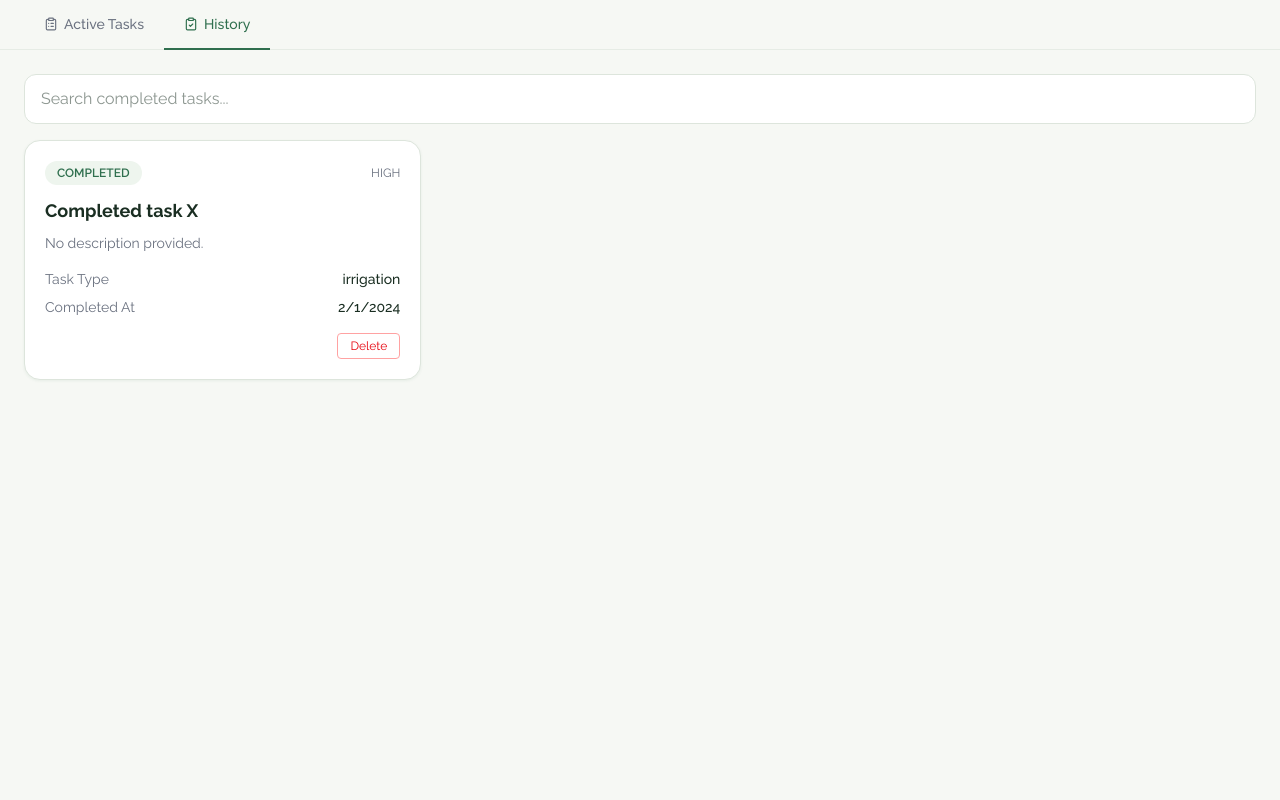
it: manager task delete (US42) › soft-deletes a completed task from the History tab on confirm
Expected: the heading "Completed task X" is shown, [45,200,198,221]
Click the button "Delete": (369, 346) [338,333,400,359]
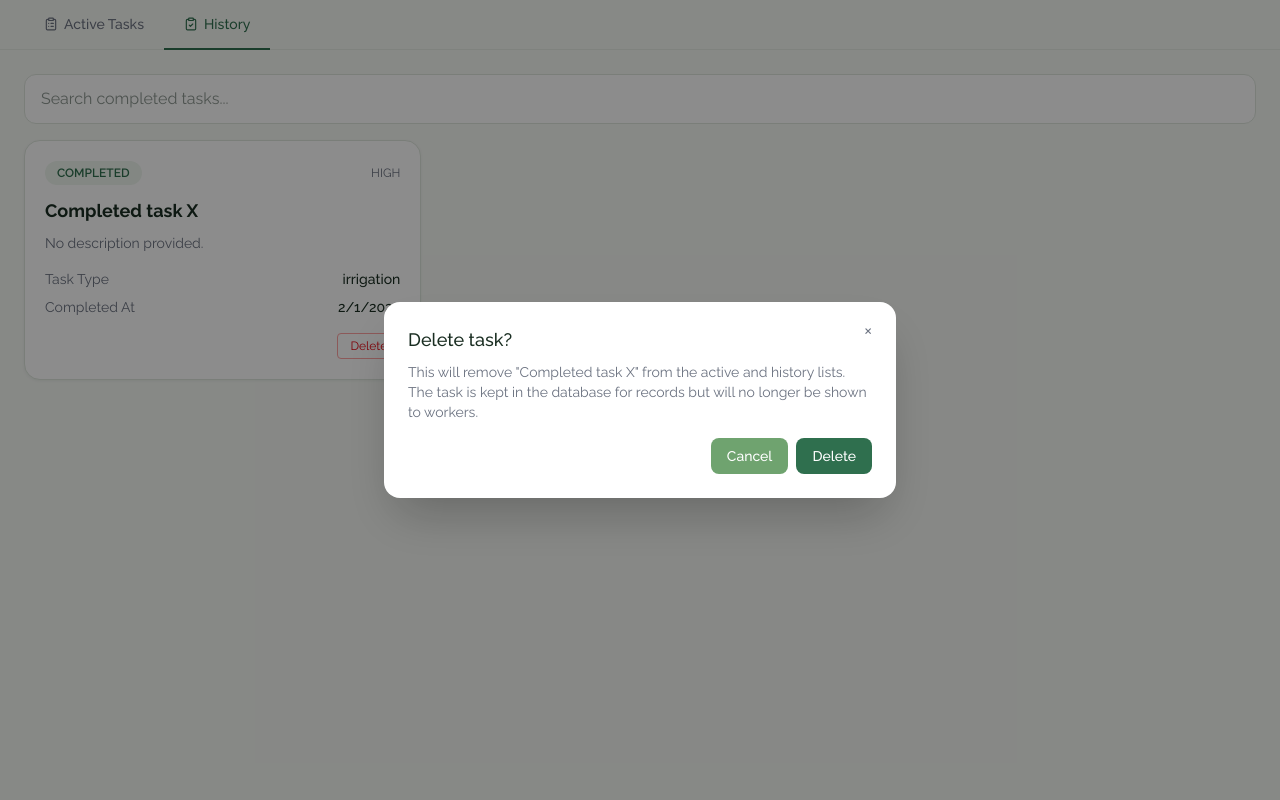
Expected: the heading "Delete task?" is shown, [408,329,512,350]
Click the button "Delete": (834, 456) [796,438,872,474]
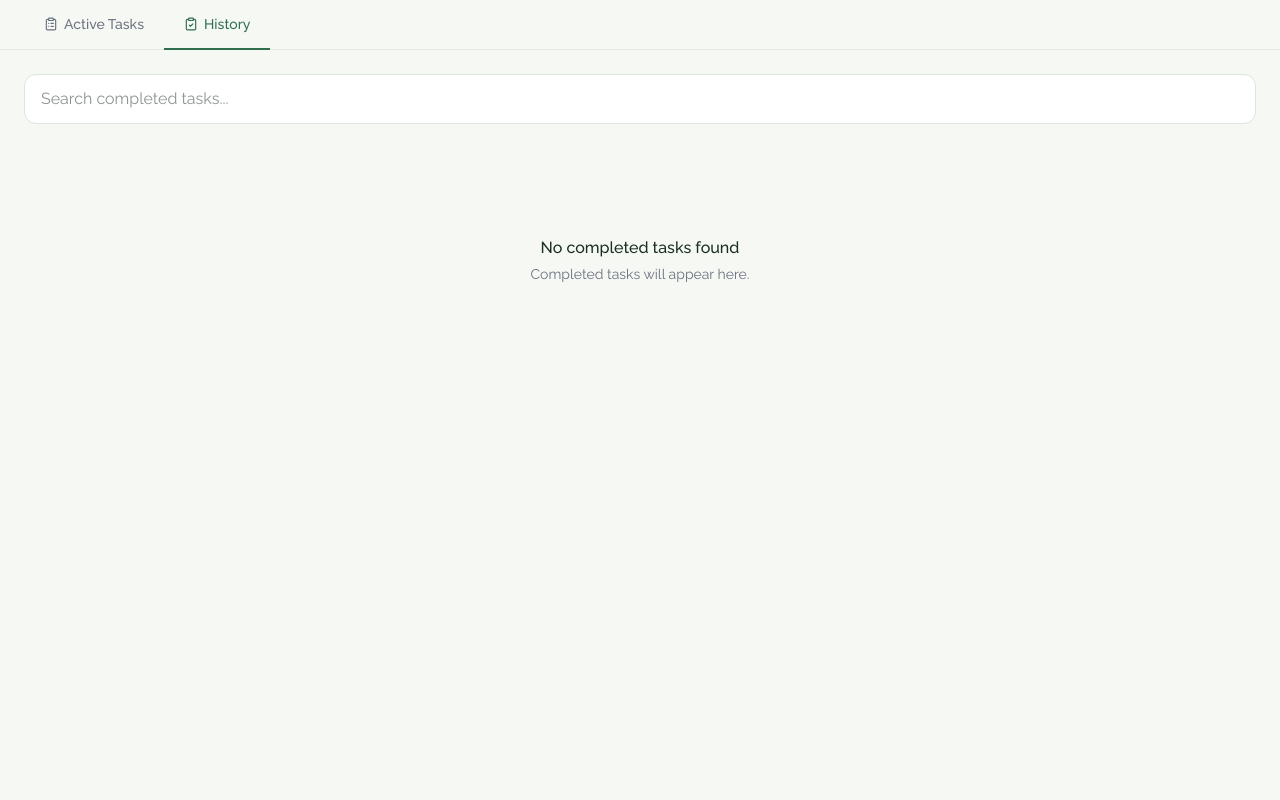
Expected: the heading "Completed task X" is gone
